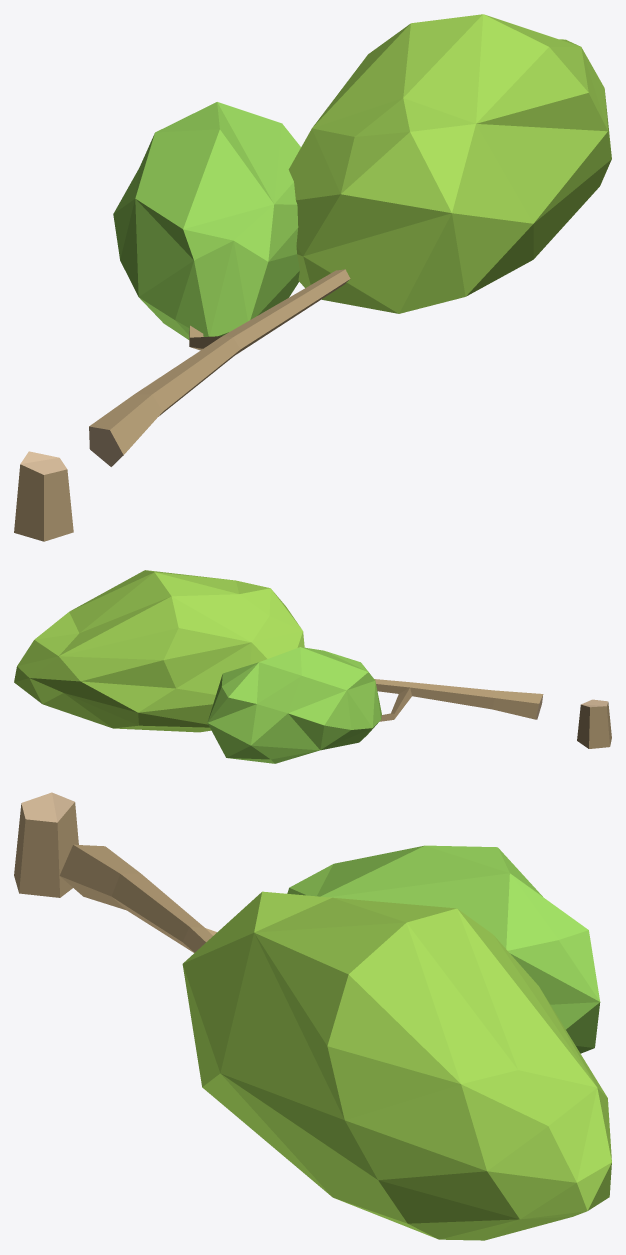
File: Random_Tree_crk_m_03_LOD.fbx
3 views of the same model, one above another, from view 1: azimuth 30°, elevation 25°; view 2: azimuth 150°, elevation 25°; view 3: azimuth 270°, elevation 25° (orthographic). The views are drawn at different scales.
Parts seen in each view (by area): view 1: Random_Tree_crk_m_03_LOD0; view 2: Random_Tree_crk_m_03_LOD0; view 3: Random_Tree_crk_m_03_LOD0.
Part boxes in pixels (x1,y1,x2,y2): Random_Tree_crk_m_03_LOD0: [14, 14, 611, 541]; Random_Tree_crk_m_03_LOD0: [14, 570, 611, 763]; Random_Tree_crk_m_03_LOD0: [14, 792, 611, 1240].
Size of what is drawn, in the model's own units: 1038 by 325 by 590.
